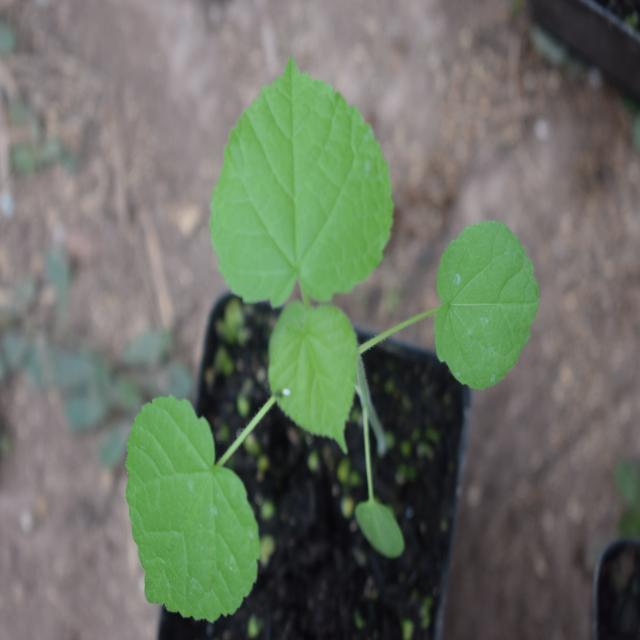abutilon theophrasti: (118, 82, 546, 611)
